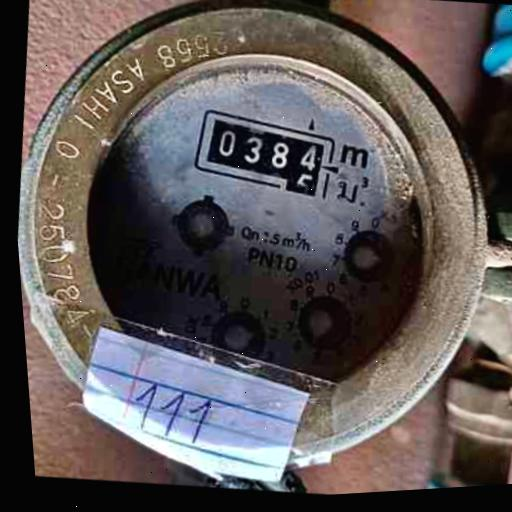0: (203, 116, 248, 171)
3: (232, 124, 275, 176)
4: (281, 136, 330, 200)
8: (259, 130, 300, 182)
border_water_meter_number: (184, 98, 346, 210)
